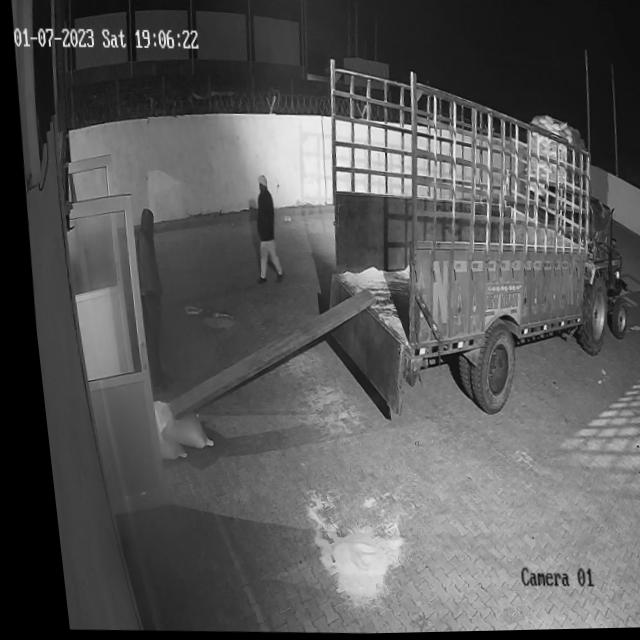sack: (142, 399, 203, 450)
